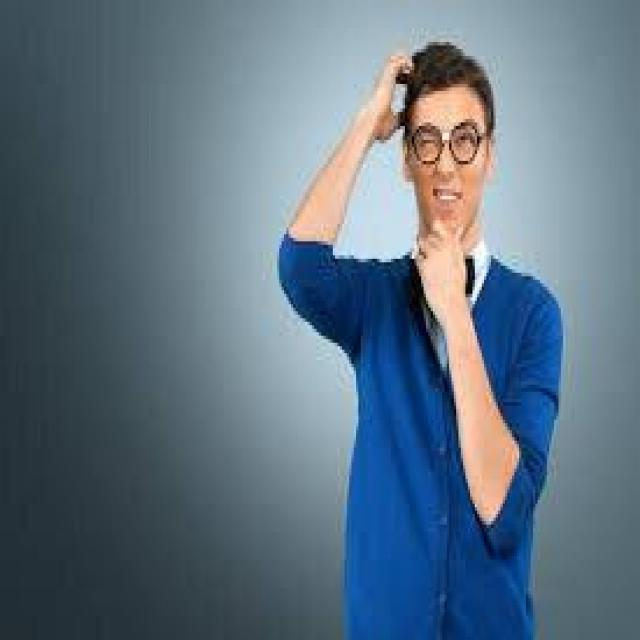person: (251, 11, 603, 626)
